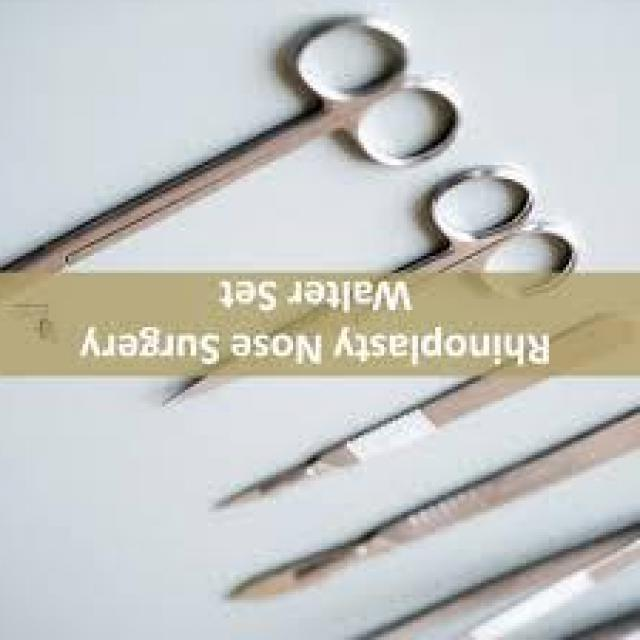Iris: (156, 162, 586, 415)
Mayo_metz: (0, 12, 467, 273)
Scalpel: (225, 404, 634, 609), (208, 378, 560, 514)
